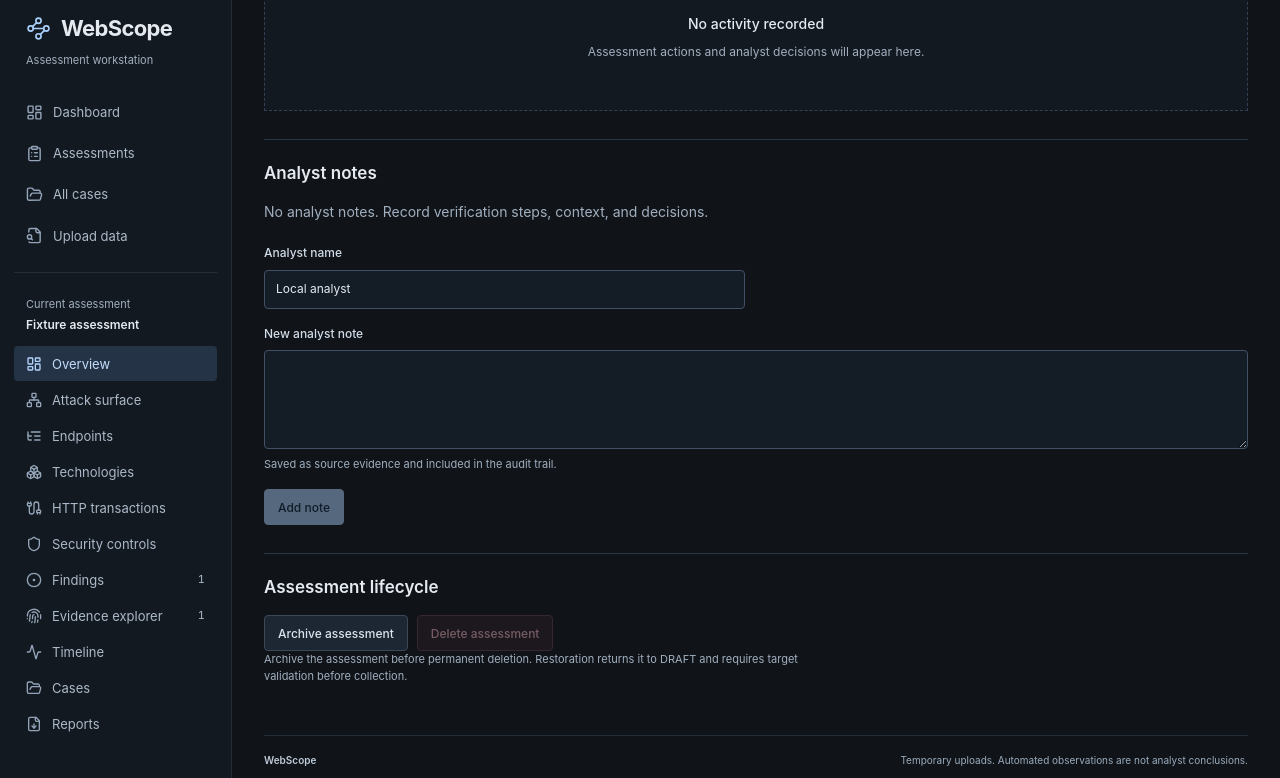
Test: inventory, cases, configuration, and exports › enforced lifecycle and authorization contracts › requires archiving before deletion and locks mutations while archived
The width and height of the screenshot is (1280, 778).
(page scrolled)
Expected: the button "Delete assessment" is disabled, [417,615,553,651]
Click the button "Archive assessment".
click(336, 633)  # box [264,615,408,651]
(page scrolled)
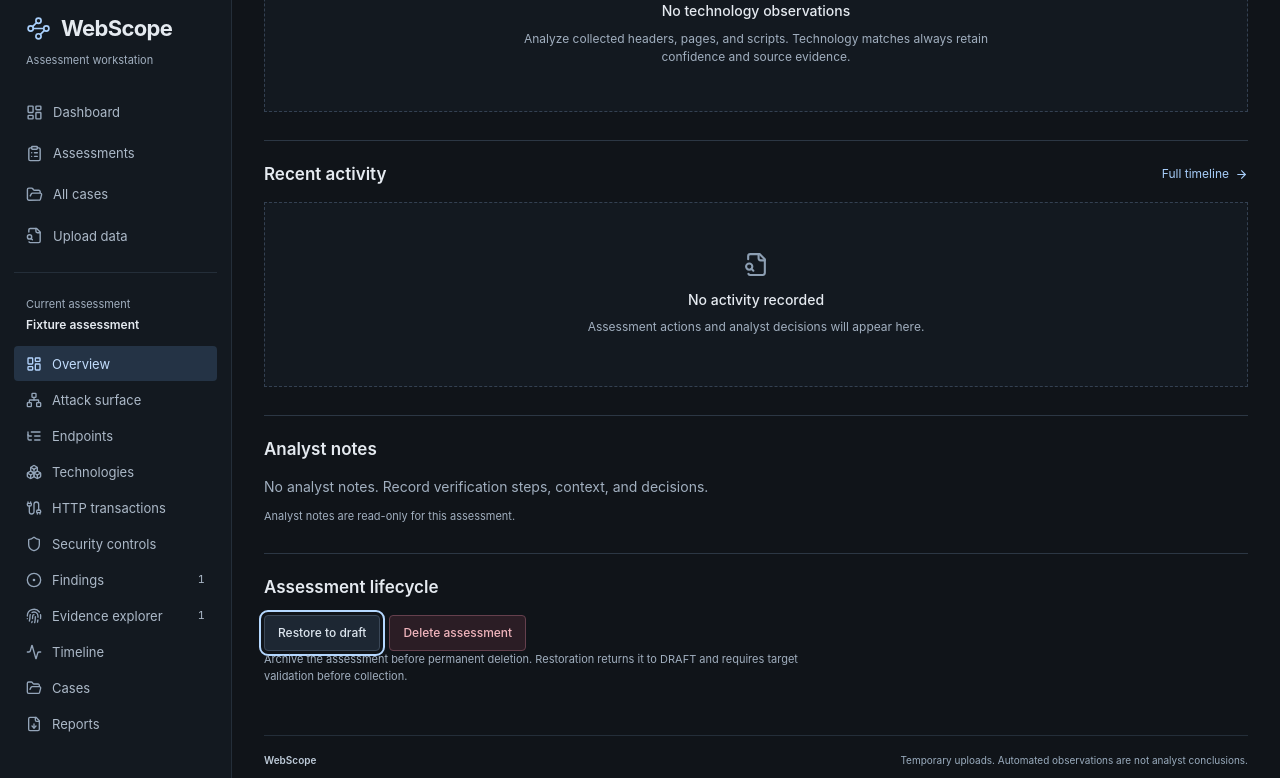
Expected: the button "Restore to draft" is shown, [264,615,380,651]
Expected: the button "Delete assessment" is enabled
Expected: the button "Add note" is gone
Click the button "Delete assessment".
click(458, 633)  # box [389,615,526,651]
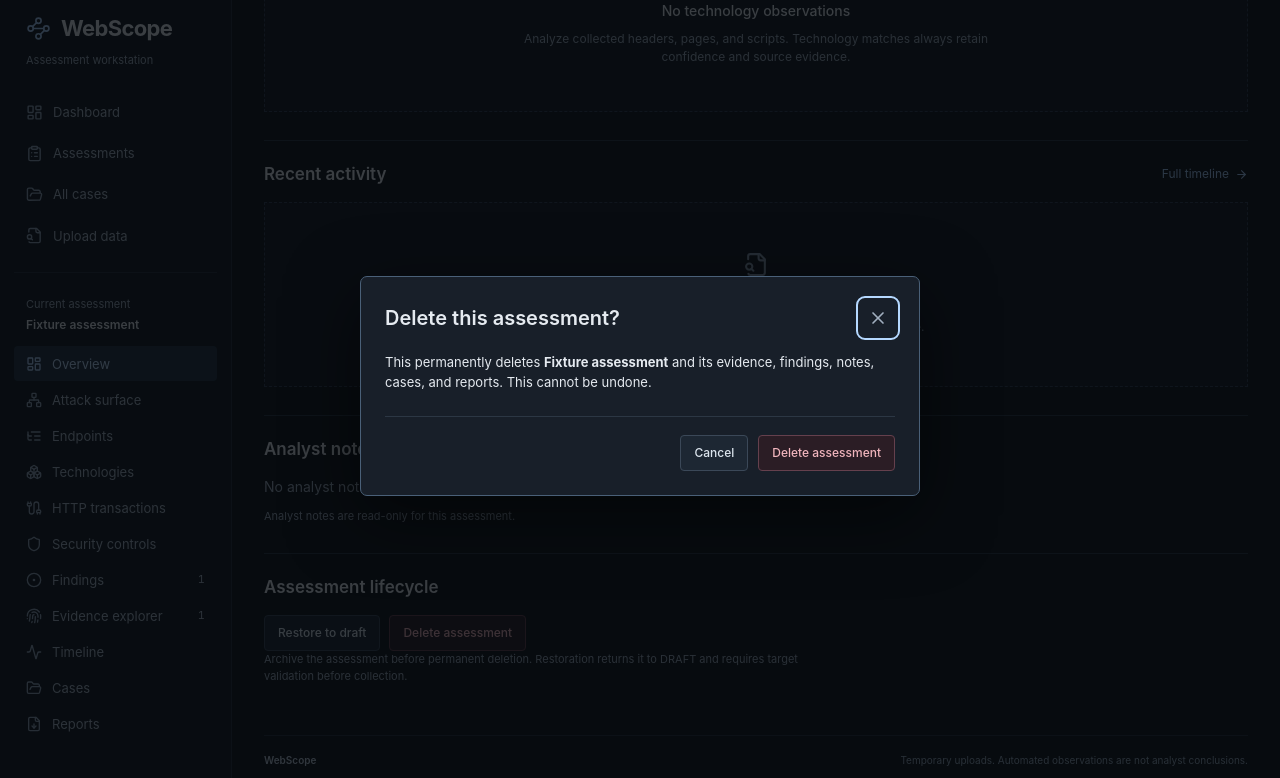
Click the button "Delete assessment".
click(827, 453)  # box [758,435,895,471]
(page scrolled)
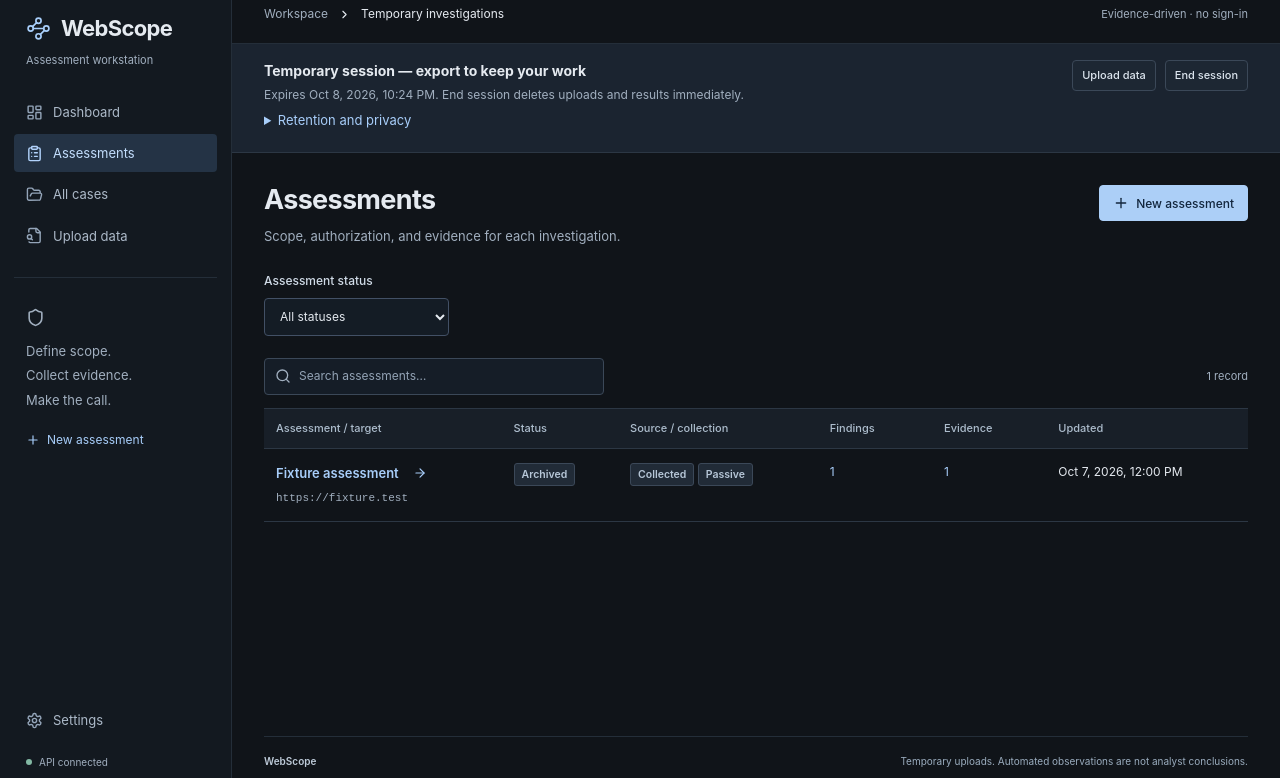
Expected: the heading "Assessments" is shown, [264,183,435,216]
